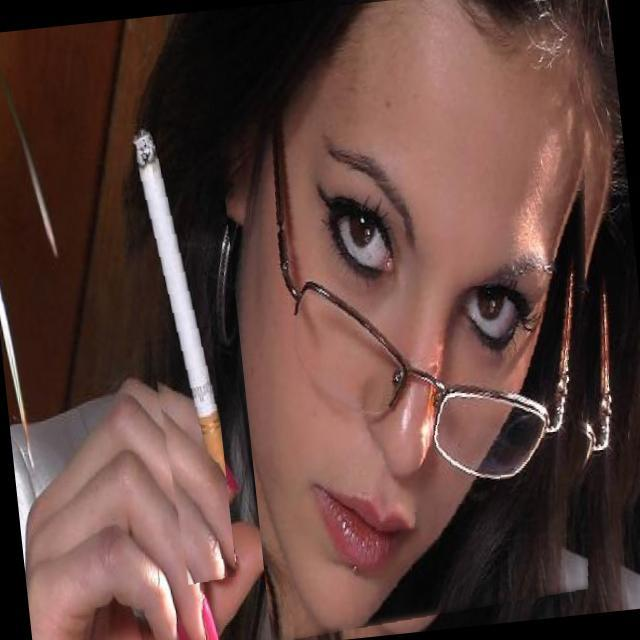cigarette: (111, 90, 236, 587)
